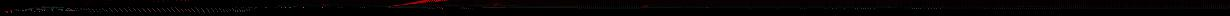Blue cone: (33, 7, 39, 8), (42, 6, 46, 7), (13, 9, 17, 10)
Yellow cone: (490, 3, 503, 6), (641, 5, 650, 7), (320, 4, 329, 6)
